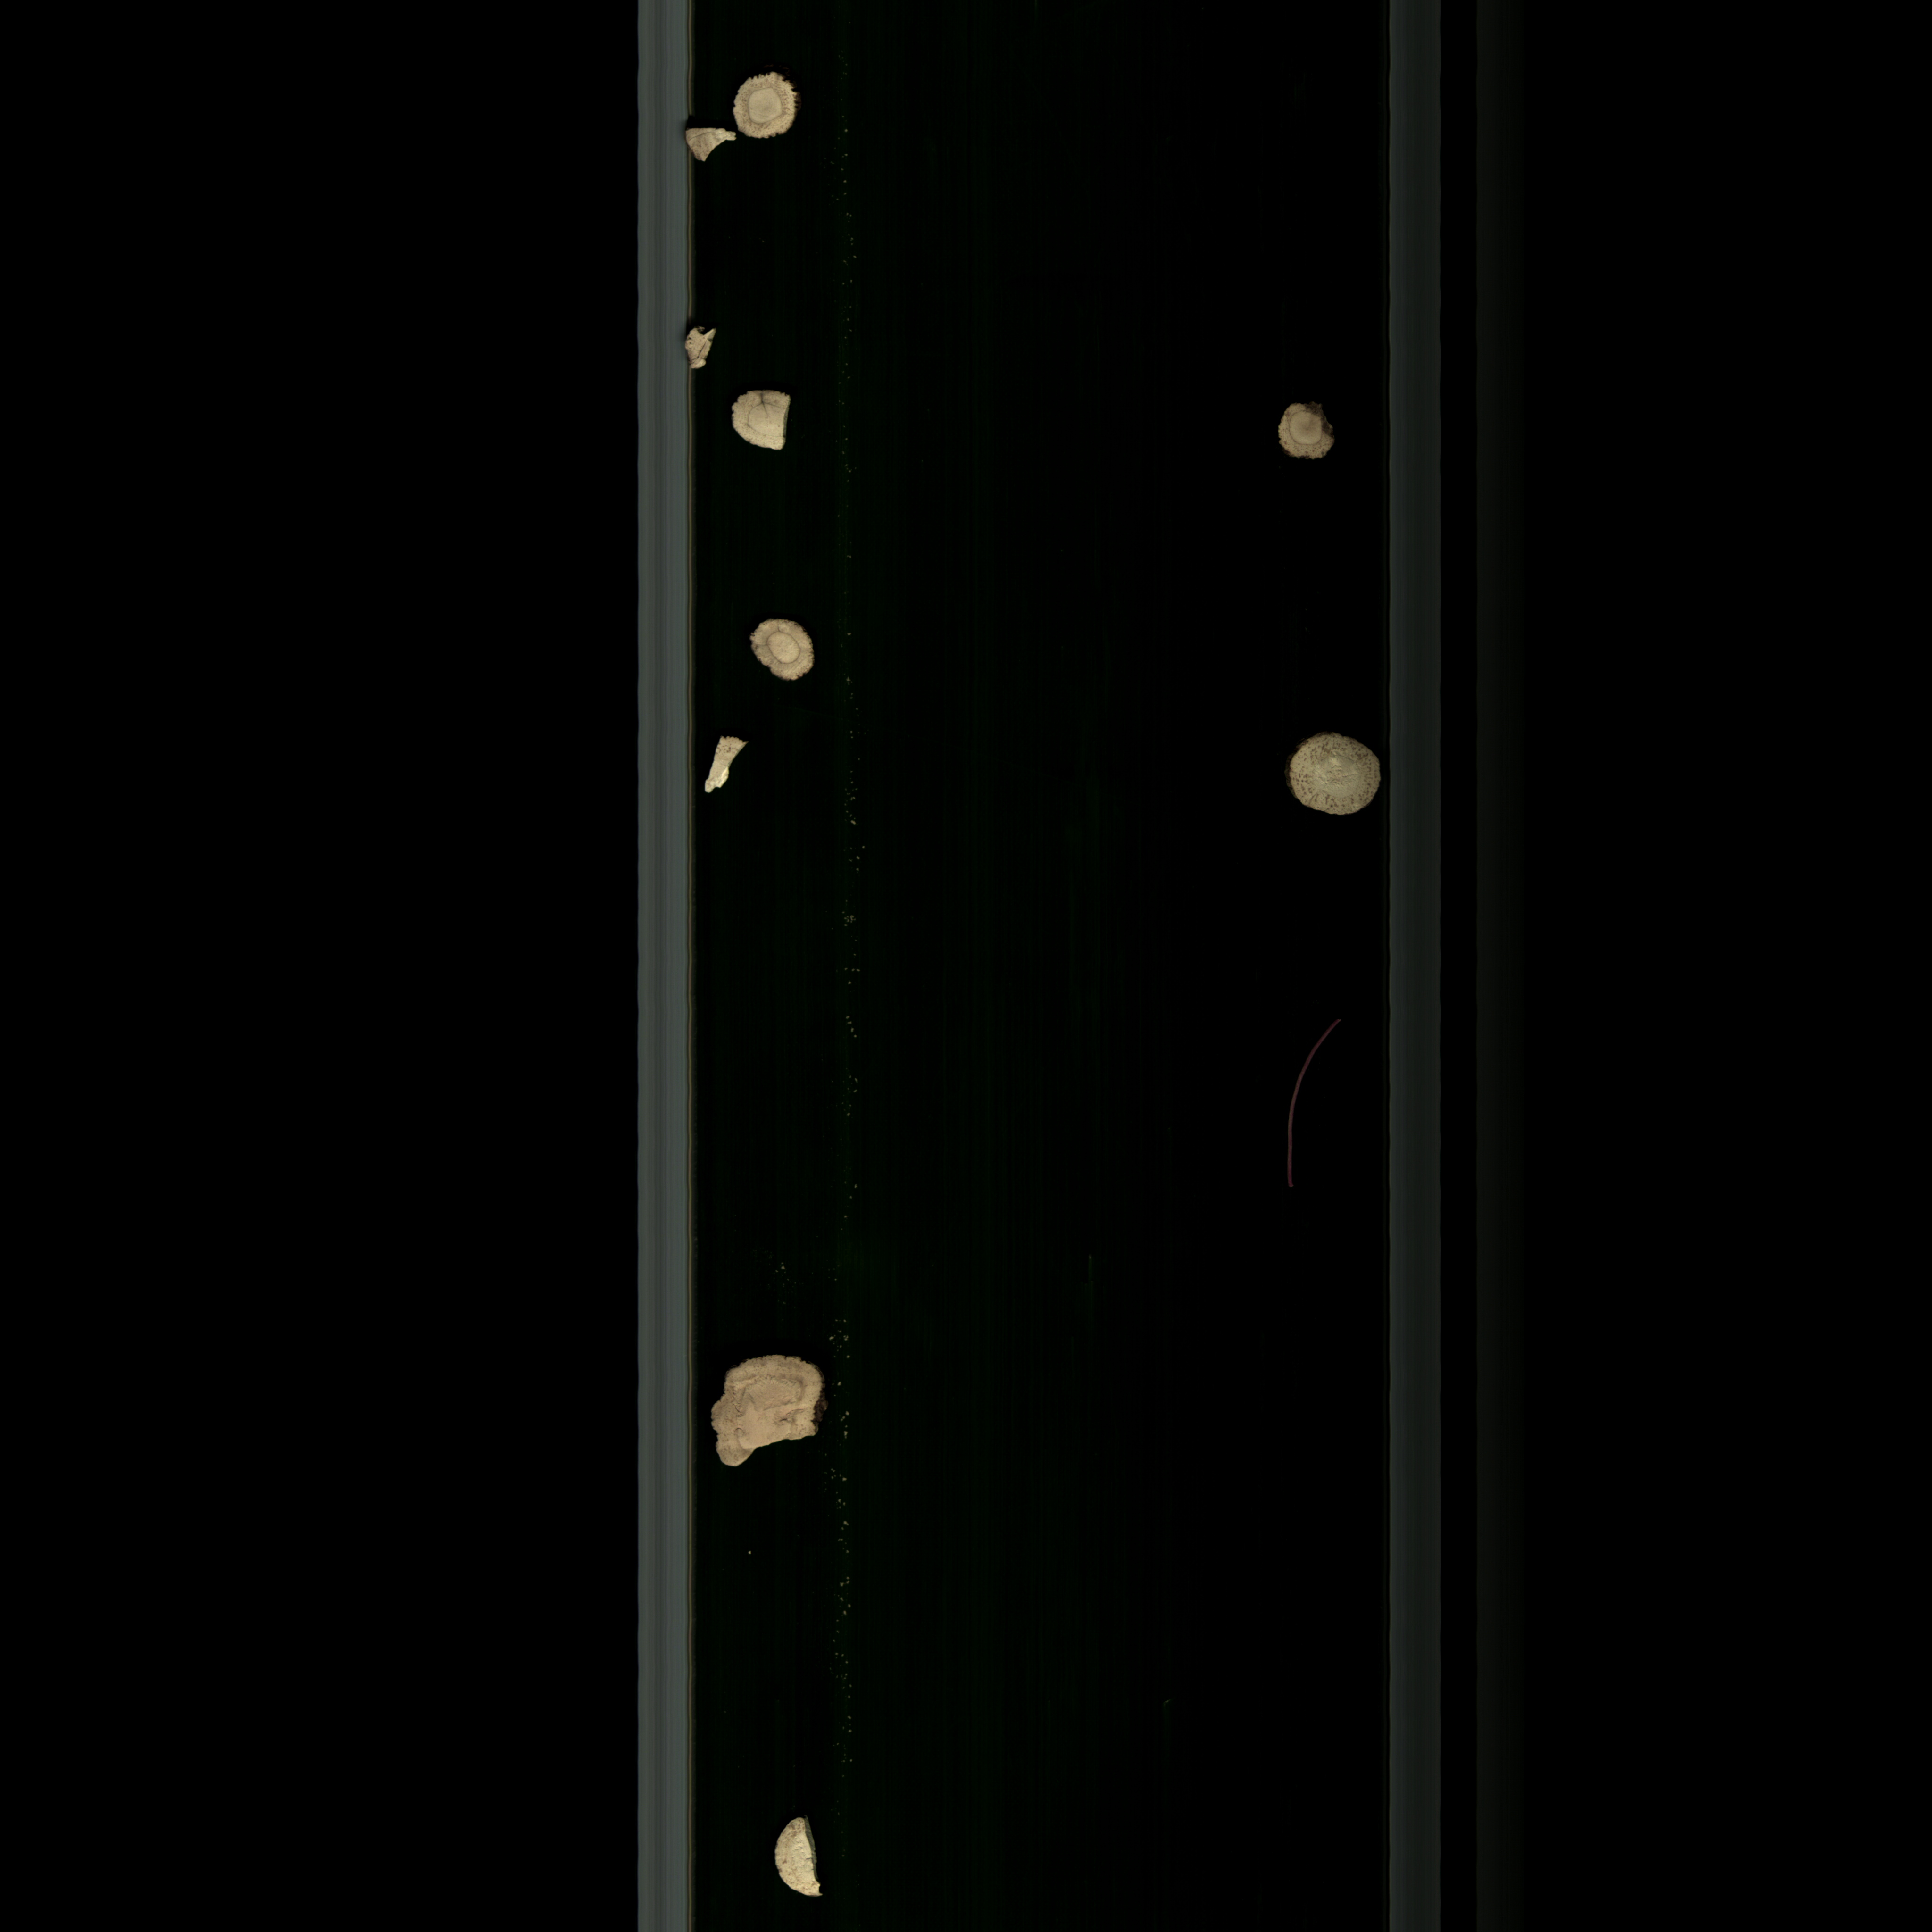bark: (1274, 1012, 1357, 1203)
debris: (704, 1352, 832, 1477), (764, 1813, 835, 1907), (1270, 395, 1350, 471), (731, 387, 796, 458)
distortion: (697, 727, 747, 803), (678, 324, 727, 382)
dreg: (671, 122, 740, 172)
moldy: (1279, 727, 1384, 823), (727, 69, 812, 143)
